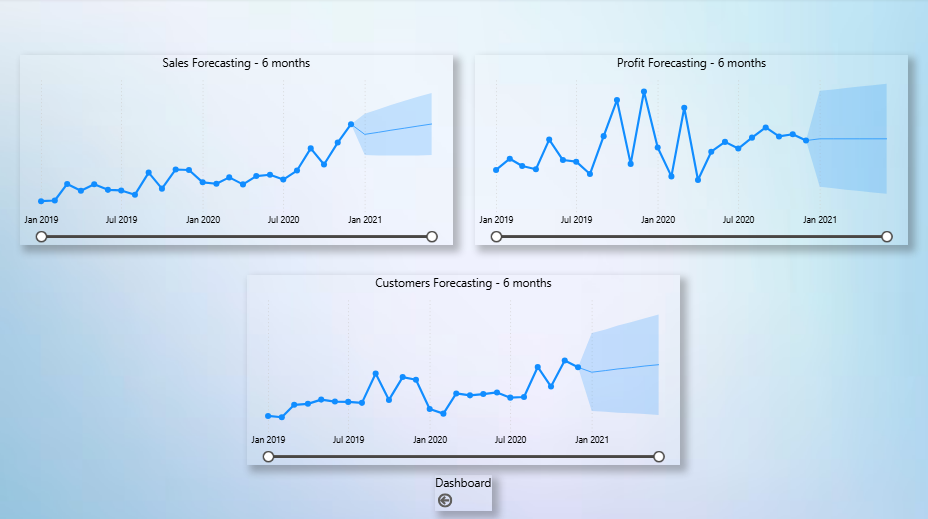

The page's visual inventory and layout, read from the dashboard file:
{"tool":"powerbi","page":{"name":"Forecasting","canvas":[1280,720],"ordinal":1},"visuals":[{"type":"group","id":"g1","title":"Group 1","box":[29,78.8,1221.2,563.1],"z":0},{"type":"lineChart","title":"Sales Forecasting - 6 months","fields":{"Category":["Sheet1.Order Date.Variation.Date Hierarchy.Year","Sheet1.Order Date.Variation.Date Hierarchy.Month"],"Y":["Sum(Sheet1.Sales)"]},"box":[29,78.8,595.5,260.6],"z":0,"group":"g1"},{"type":"lineChart","title":"Profit Forecasting - 6 months","fields":{"Category":["Sheet1.Order Date.Variation.Date Hierarchy.Year","Sheet1.Order Date.Variation.Date Hierarchy.Month"],"Y":["Sum(Sheet1.Profit)"]},"box":[655,78.8,595.5,260.6],"z":1000,"group":"g1"},{"type":"actionButton","title":"Dashboard","box":[600.2,657.2,77.9,48.9],"z":1000},{"type":"lineChart","title":"Customers Forecasting - 6 months","fields":{"Y":["Sheet1.Total Customers"],"Category":["Sheet1.Order Date.Variation.Date Hierarchy.Year","Sheet1.Order Date.Variation.Date Hierarchy.Month"]},"box":[341.5,381.5,595.5,260.6],"z":2000,"group":"g1"}]}

Visuals, with their boxes in screenshot pixels (x1, y1, x2, y2), scaled from the page's 1280x720 canvas onto the 928x519 screenshot:
"Group 1" group: (x1=21, y1=57, x2=906, y2=463)
"Sales Forecasting - 6 months" lineChart: (x1=21, y1=57, x2=453, y2=245)
"Profit Forecasting - 6 months" lineChart: (x1=475, y1=57, x2=907, y2=245)
"Dashboard" actionButton: (x1=435, y1=474, x2=492, y2=509)
"Customers Forecasting - 6 months" lineChart: (x1=248, y1=275, x2=679, y2=463)
